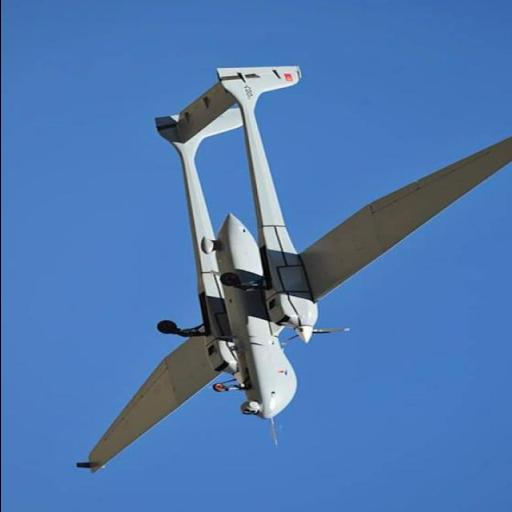uav: (77, 68, 511, 474)
